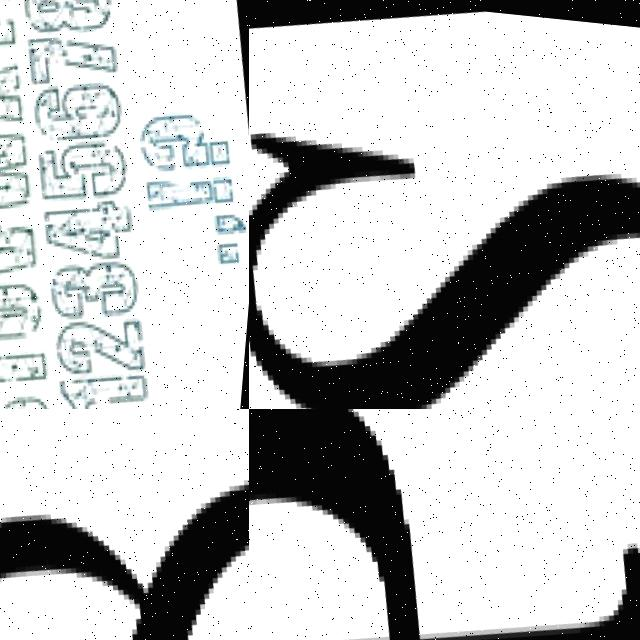1: (64, 355, 155, 409)
2: (54, 303, 151, 373)
3: (47, 245, 147, 320)
4: (45, 182, 144, 254)
5: (35, 123, 135, 195)
6: (27, 60, 132, 136)
7: (26, 16, 122, 80)
8: (0, 411, 249, 640), (20, 0, 113, 31)
P: (249, 409, 640, 640)
S: (249, 46, 640, 409)
